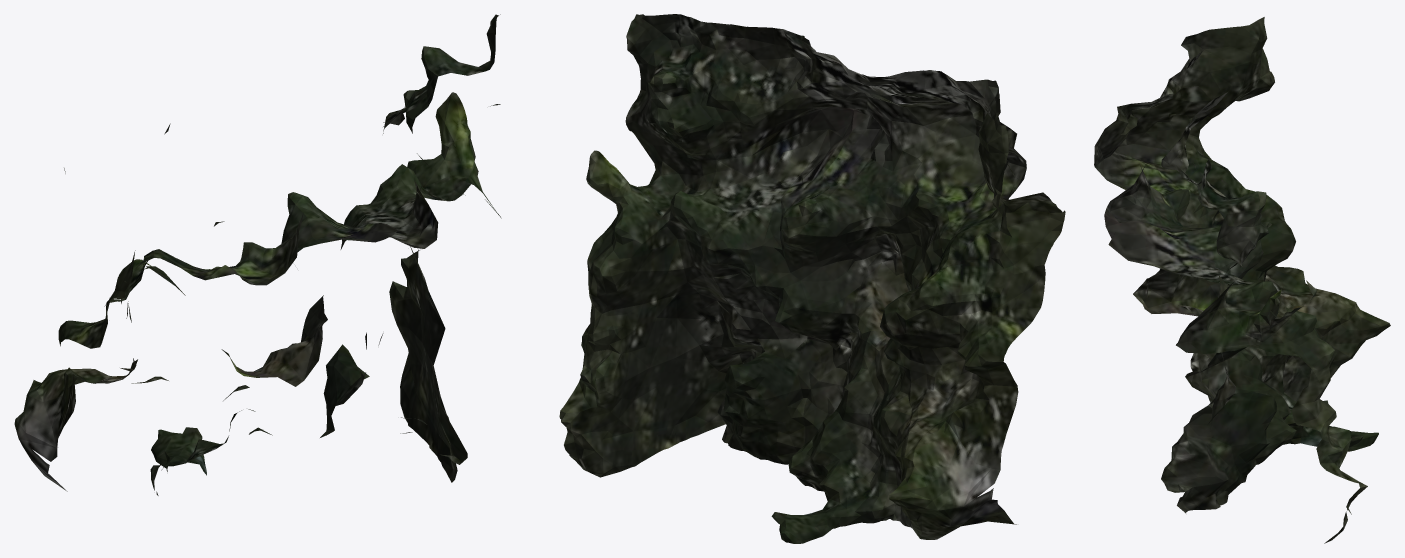
The picture shows the model from 3 angles, left to right: view 1: azimuth 30°, elevation 25°; view 2: azimuth 150°, elevation 25°; view 3: azimuth 270°, elevation 25°; orthographic projection. The views are drawn at different scales.
Size of the model in its own units: 3.35 by 3.35 by 2.49.
5 materials, 5 textured.
